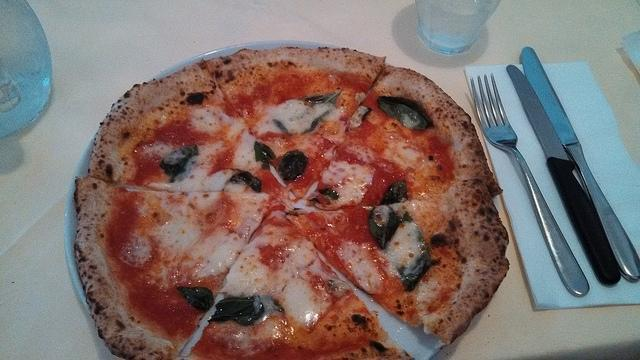mushroom: (376, 96, 434, 130), (368, 207, 413, 250), (396, 243, 432, 292), (208, 296, 264, 326), (160, 144, 199, 182), (177, 287, 214, 312), (301, 91, 342, 106)
